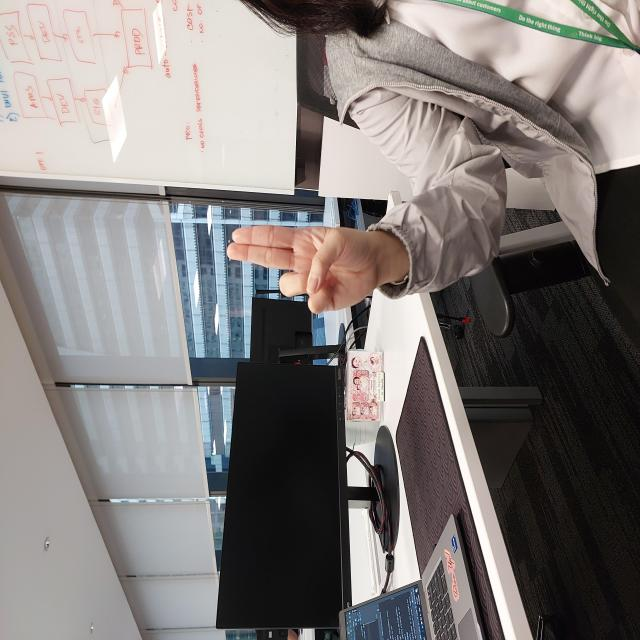U: (326, 223, 418, 379)
